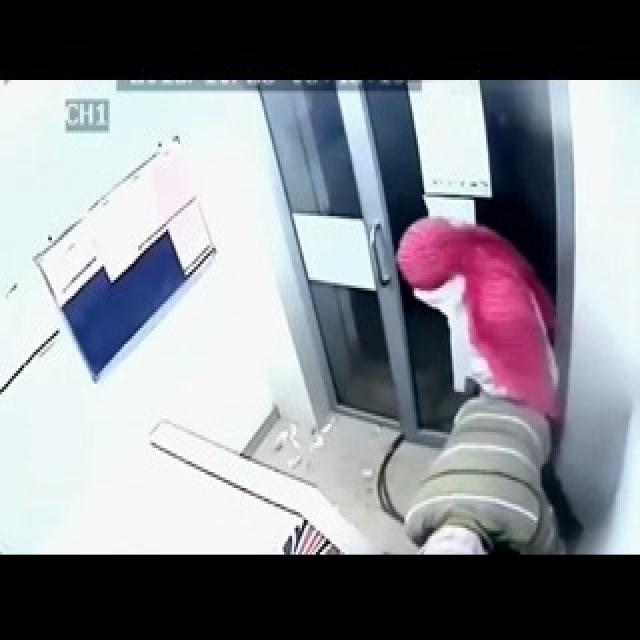thief: (390, 255, 573, 545)
